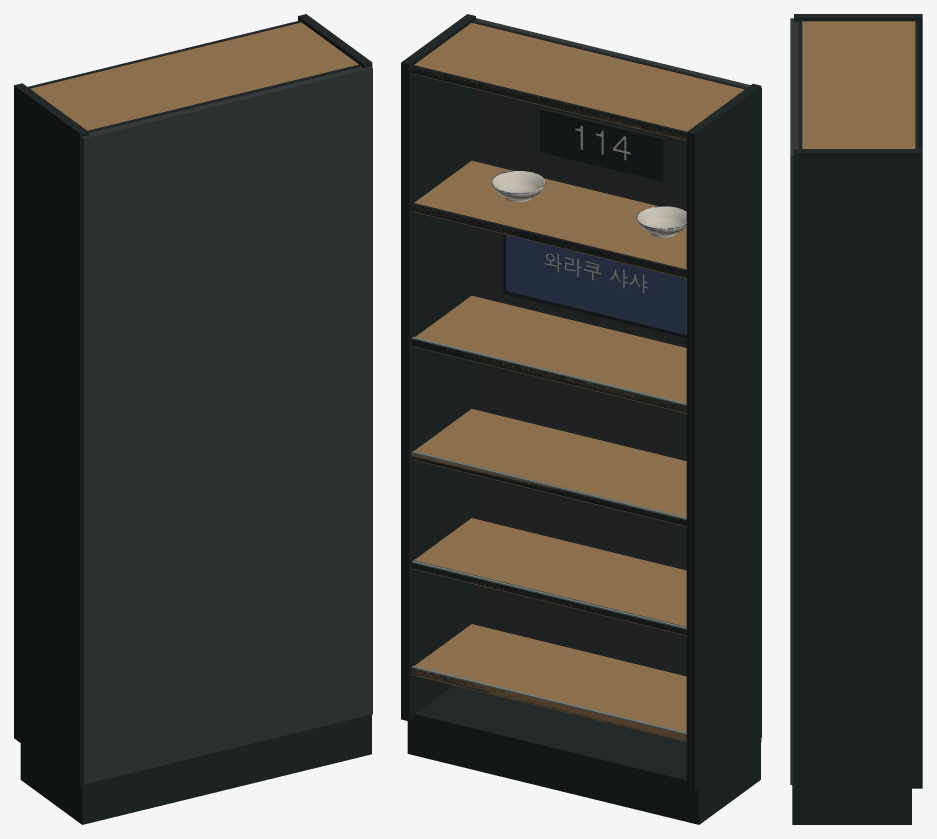
File: cabinet.glb
The picture shows the model from 3 angles, left to right: view 1: azimuth 30°, elevation 25°; view 2: azimuth 150°, elevation 25°; view 3: azimuth 270°, elevation 25°; orthographic projection. The views are drawn at different scales.
Visible parts, largest first — view 1: Waraku_cabinet; view 2: Waraku_cabinet; view 3: Waraku_cabinet.
Part boxes in pixels (x1,y1,x2,y2): Waraku_cabinet: (14,14,372,824); Waraku_cabinet: (401,14,761,824); Waraku_cabinet: (790,14,922,824).
Bounding box in the file's own units: 0.9349 × 2.11 × 0.3769.
